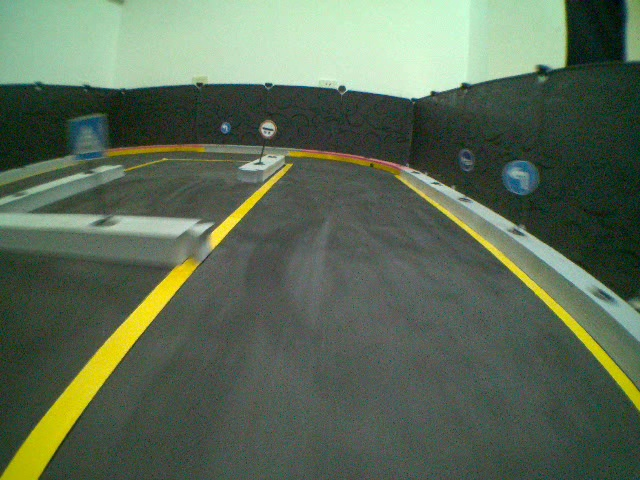Check: (260, 118, 277, 138)
horn: (458, 148, 473, 173)
turn: (500, 159, 541, 195), (219, 121, 230, 134)
